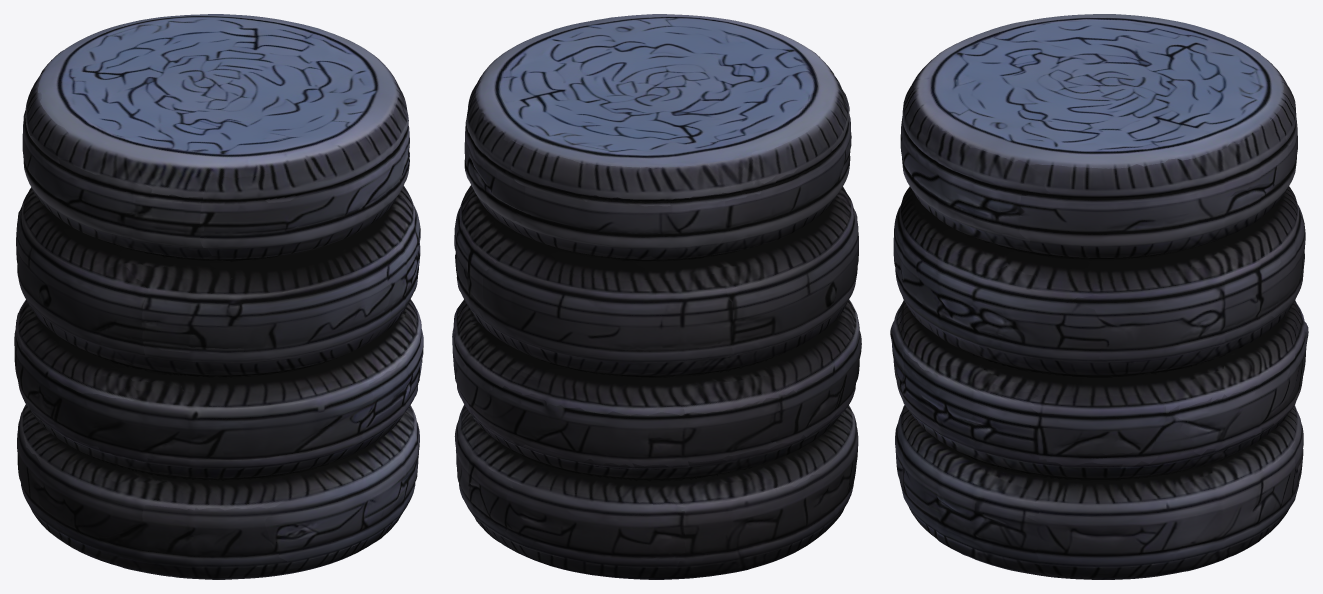
Rendered from montana_neumaticos.glb.
3 views of the same model, side by side, from view 1: azimuth 30°, elevation 25°; view 2: azimuth 150°, elevation 25°; view 3: azimuth 270°, elevation 25° (orthographic).
Parts seen in each view (by area): view 1: tmpbwbr7iwb.ply; view 2: tmpbwbr7iwb.ply; view 3: tmpbwbr7iwb.ply.
Part boxes in pixels (<box>): tmpbwbr7iwb.ply: <box>14,14,423,579</box>; tmpbwbr7iwb.ply: <box>452,14,861,579</box>; tmpbwbr7iwb.ply: <box>890,14,1308,579</box>.
Bounding box in the file's own units: 0.8712 × 0.994 × 0.8904.
Materials: 1 (1 with a texture image).
